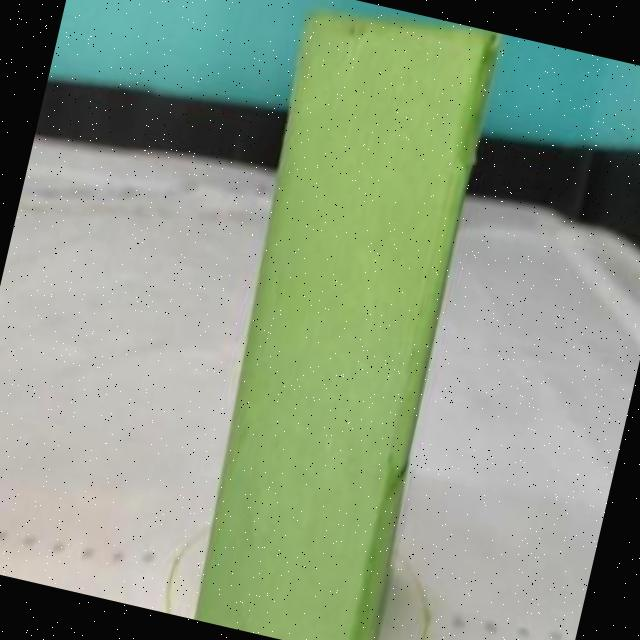greenbox: (171, 0, 514, 640)
